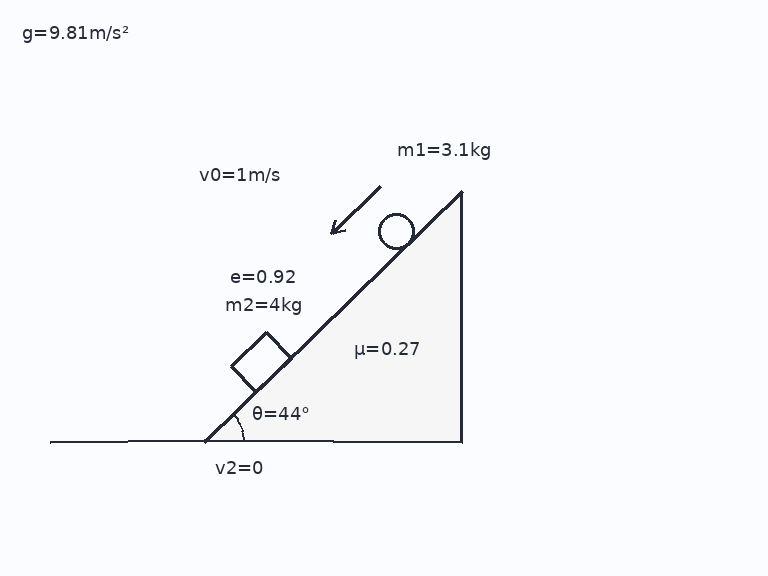ball: (376, 211, 416, 251)
block: (229, 330, 292, 393)
ramp: (202, 190, 464, 443)
